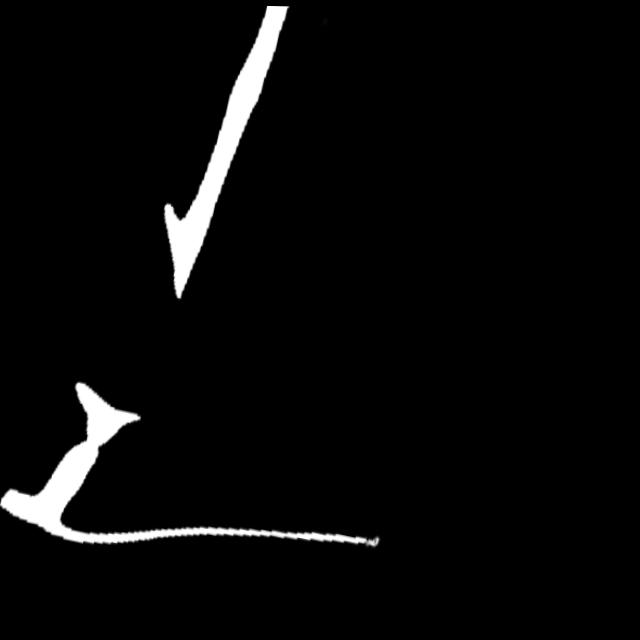stp: (359, 531, 385, 547)
